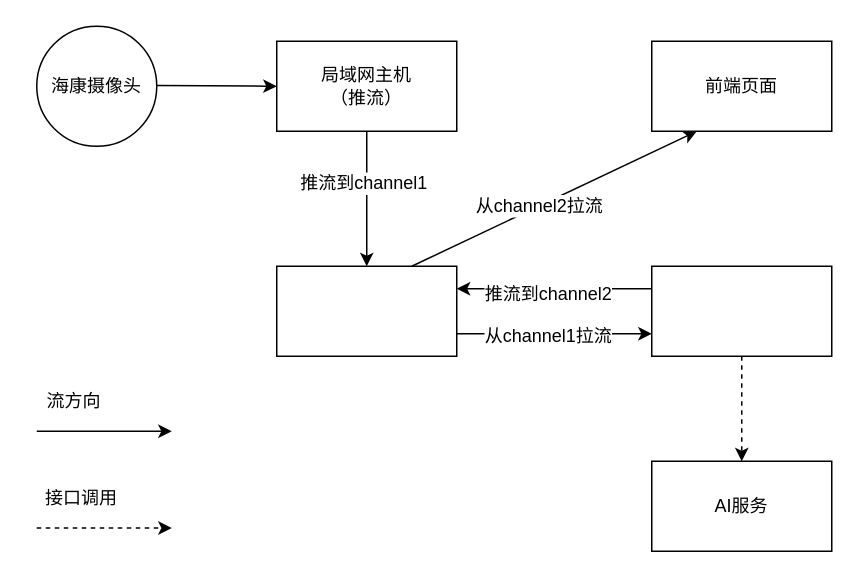
Some shapes in this 858 by 578 pixel diagram are drawn without their labels. Each missing label, with the box of its shape:
Java应用: (650, 265, 832, 356)
云端流服务器: (275, 265, 457, 356)
